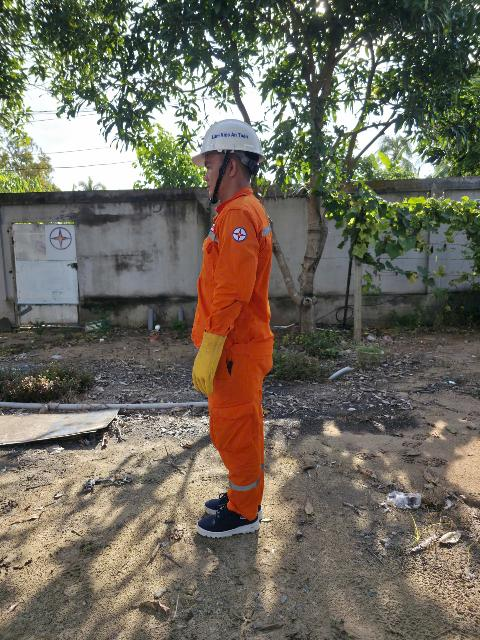gloves: (189, 322, 237, 393)
helmet: (186, 111, 273, 170)
shoes: (181, 494, 263, 542), (200, 487, 287, 514)
